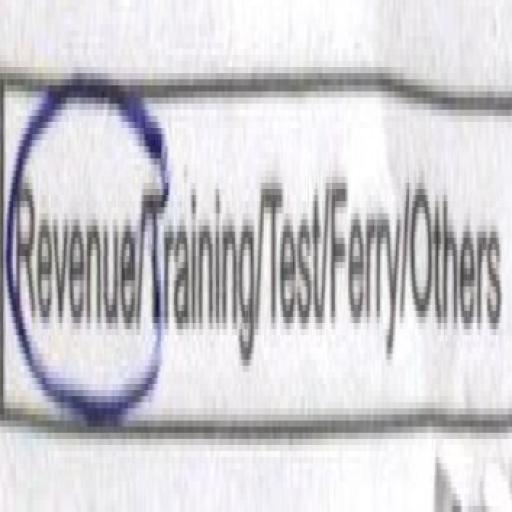check: (0, 0, 146, 481)
